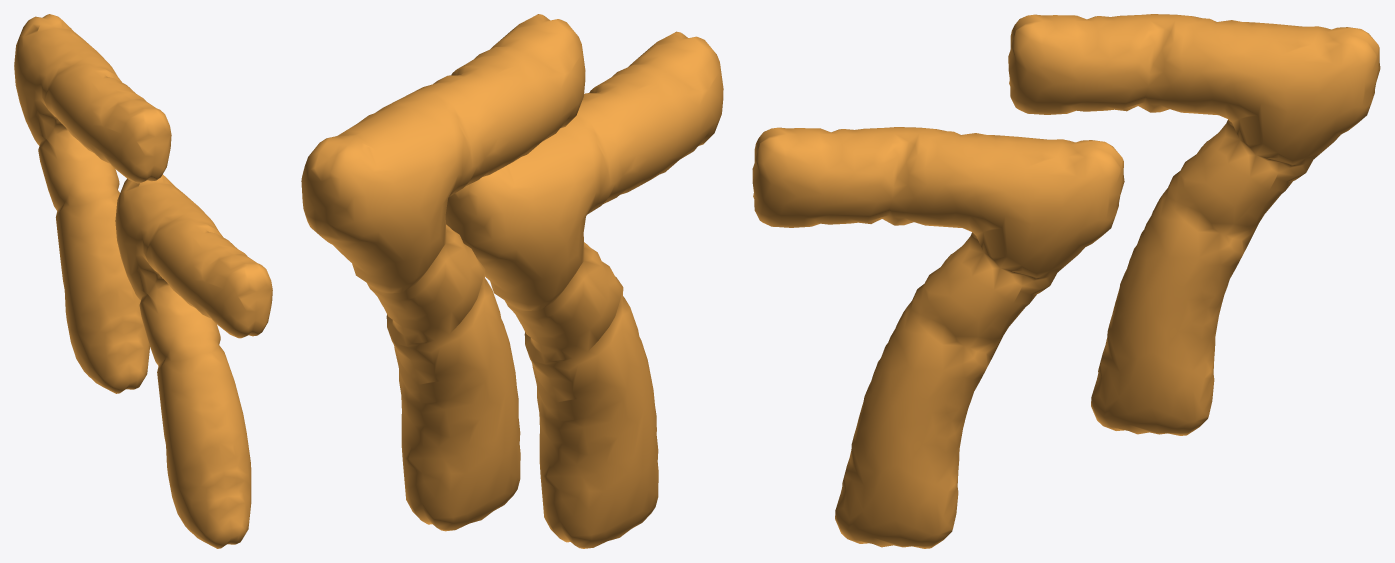
Rendered from ballon77.glb.
3 views of the same model, side by side, from view 1: azimuth 30°, elevation 25°; view 2: azimuth 150°, elevation 25°; view 3: azimuth 270°, elevation 25° (orthographic). The views are drawn at different scales.
Parts seen in each view (by area): view 1: 7.001, 7; view 2: 7, 7.001; view 3: 7.001, 7.
Boxes of the visible parts, x1,y1,x2,y2 form: 7.001: (115,174,272,548); 7: (14,14,171,393); 7: (301,14,585,531); 7.001: (445,31,723,548); 7.001: (752,127,1124,548); 7: (1008,14,1380,435).
Size of the model in its own units: 0.8796 by 3.74 by 4.13.
